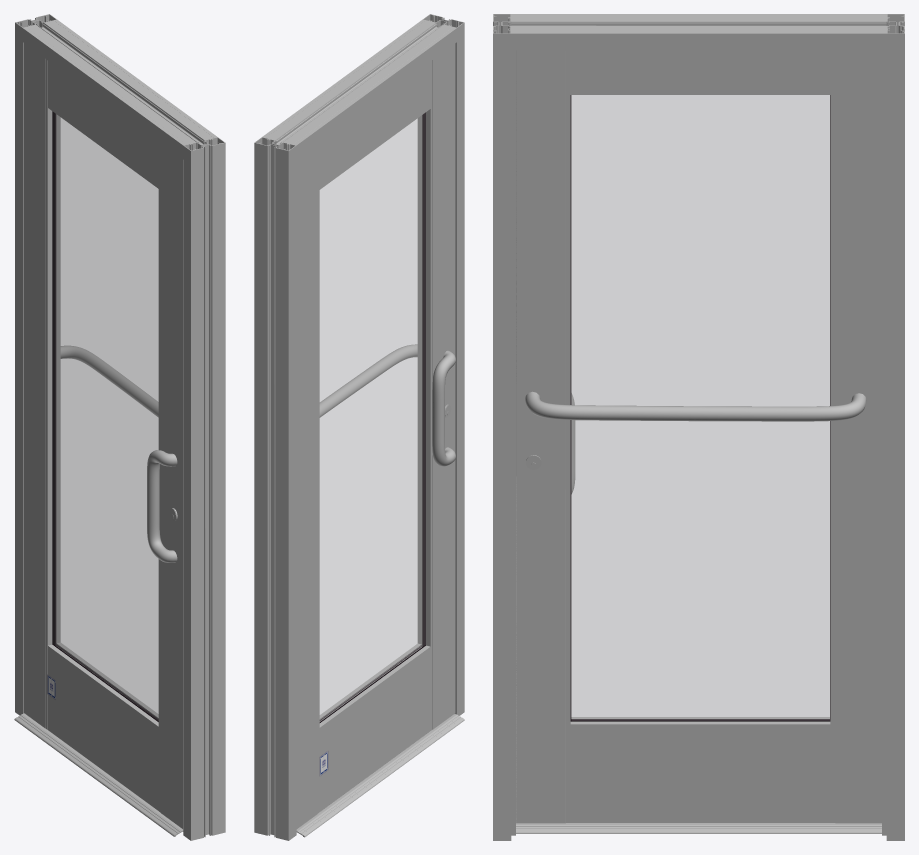
Rendered from Framed_D500_Single_Animated_AL.glb.
The picture shows the model from 3 angles, left to right: view 1: azimuth 30°, elevation 25°; view 2: azimuth 150°, elevation 25°; view 3: azimuth 270°, elevation 25°; orthographic projection. The views are drawn at different scales.
Visible parts, largest first — view 1: D500.016, D500.001, PROFILE_curve_.018, D500.009, PROFILE_curve_.019, D500.011, PROFILE_curve_.023, D500.012, PROFILE_curve_.014, PROFILE_curve_.008, PROFILE_curve_.016, D500.003 (+3 smaller); view 2: D500.016, D500.009, PROFILE_curve_.022, D500.001, PROFILE_curve_.023, D500.011, PROFILE_curve_.019, D500.012, PROFILE_curve_.014, PROFILE_curve_.008, PROFILE_curve_.016, BézierCurve.001 (+3 smaller); view 3: D500.016, D500.009, D500.001, D500.011, PROFILE_curve_.023, PROFILE_curve_.019, D500.012, PROFILE_curve_.008, PROFILE_curve_.014, NurbsPath.001, PROFILE_curve_.016, 0_curve_.009 (+2 smaller).
Boxes of the visible parts, x1,y1,x2,y2 form: D500.016: (52, 112, 158, 720); D500.001: (23, 43, 60, 729); PROFILE_curve_.018: (194, 143, 221, 839); D500.009: (158, 142, 183, 828); PROFILE_curve_.019: (183, 137, 225, 840); D500.011: (48, 642, 158, 810); PROFILE_curve_.023: (15, 14, 56, 715); D500.012: (48, 61, 158, 188); PROFILE_curve_.014: (26, 20, 213, 144); PROFILE_curve_.008: (23, 19, 216, 159); PROFILE_curve_.016: (14, 713, 183, 836); D500.003: (53, 112, 56, 645); D500.016: (320, 113, 425, 721); D500.009: (417, 44, 455, 730); PROFILE_curve_.022: (257, 143, 285, 839); D500.001: (296, 143, 319, 828); PROFILE_curve_.023: (254, 137, 296, 840); D500.011: (319, 643, 430, 811); PROFILE_curve_.019: (423, 14, 464, 715); D500.012: (319, 61, 430, 189); PROFILE_curve_.014: (266, 20, 452, 144); PROFILE_curve_.008: (262, 19, 456, 158); PROFILE_curve_.016: (296, 714, 464, 837); BézierCurve.001: (432, 350, 455, 466); D500.016: (571, 95, 829, 721); D500.009: (516, 50, 570, 823); D500.001: (830, 50, 881, 823); D500.011: (570, 717, 830, 822); PROFILE_curve_.023: (886, 14, 904, 840); PROFILE_curve_.019: (493, 14, 511, 840); D500.012: (570, 50, 830, 94); PROFILE_curve_.008: (511, 14, 886, 50); PROFILE_curve_.014: (511, 16, 886, 31); NurbsPath.001: (525, 391, 866, 421); PROFILE_curve_.016: (516, 823, 881, 833); 0_curve_.009: (882, 50, 886, 835).
Bounding box in the file's own units: 0.1922 × 2.18 × 1.01.
Materials: 7 (1 with a texture image).
